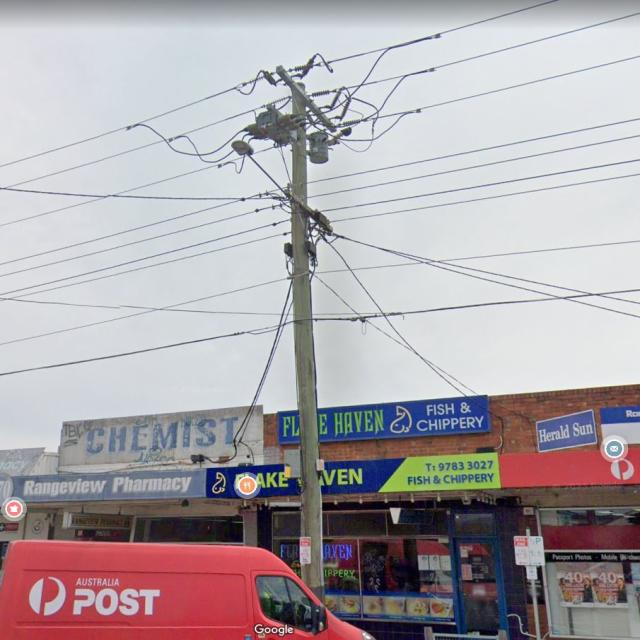HV-switch: (246, 103, 315, 146)
HV-transmission: (246, 56, 364, 132)
crossarm: (276, 67, 336, 132), (284, 188, 334, 236)
streetlight: (232, 140, 287, 195)
timber-pole: (290, 81, 325, 605)
transformer: (307, 130, 335, 165)
